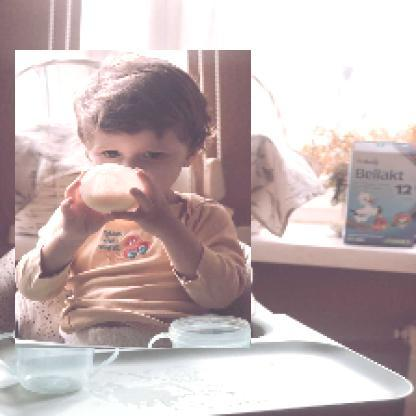child: (16, 51, 253, 350)
